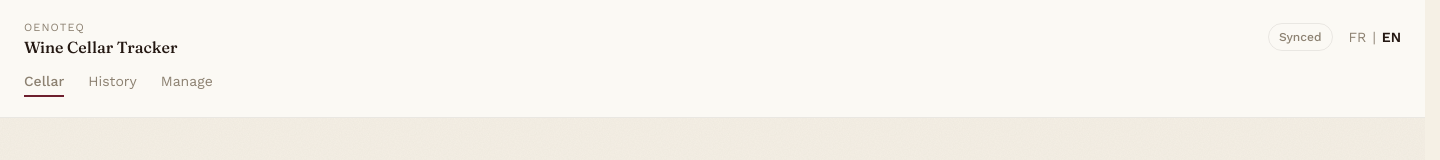
Test case: AppHeader language toggle › switches the header to French in place, then back
This screenshot has width=1440, height=160.
Click the button "FR": (1357, 37) [1348, 27, 1366, 47]
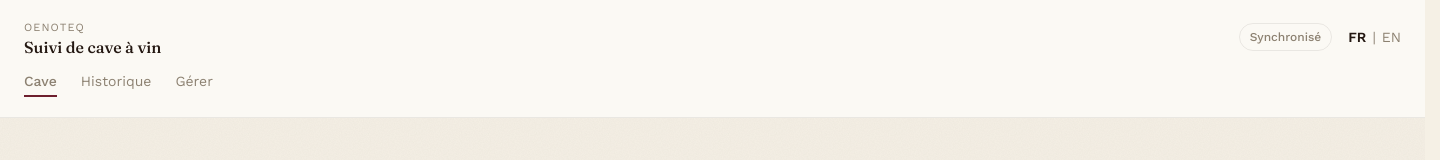
expect the links read "Cave", "Historique", "Gérer", in this order: met, box [24, 70, 57, 96]; [81, 70, 151, 96]; [175, 70, 213, 96]
Click the button "EN": (1391, 37) [1382, 27, 1401, 47]
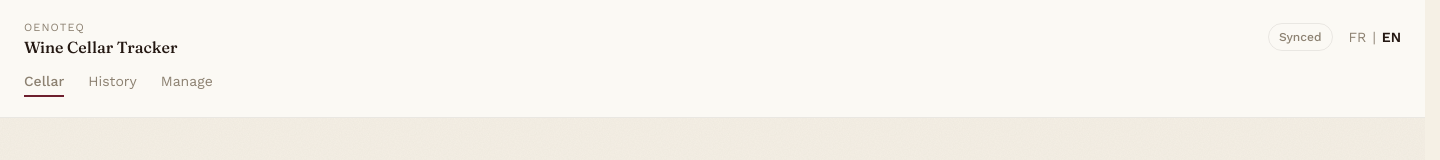
expect the links read "Cellar", "History", "Manage", in this order: met, box [24, 70, 64, 96]; [88, 70, 137, 96]; [161, 70, 213, 96]
